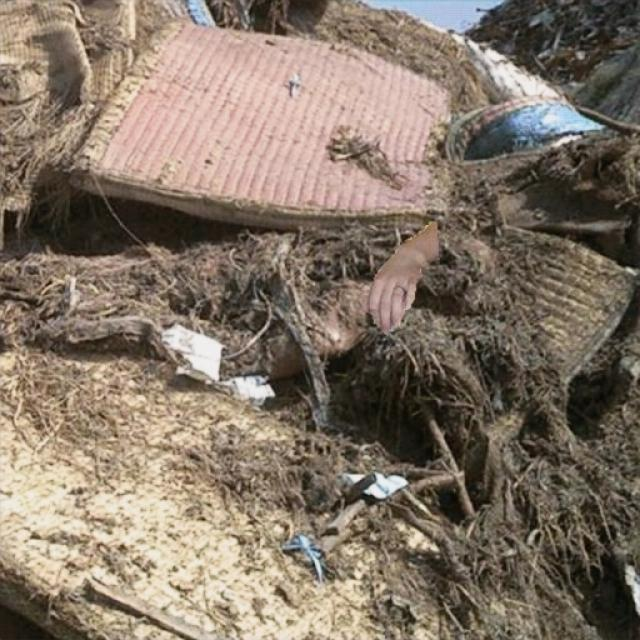Person in Rubble: (362, 221, 438, 335)
